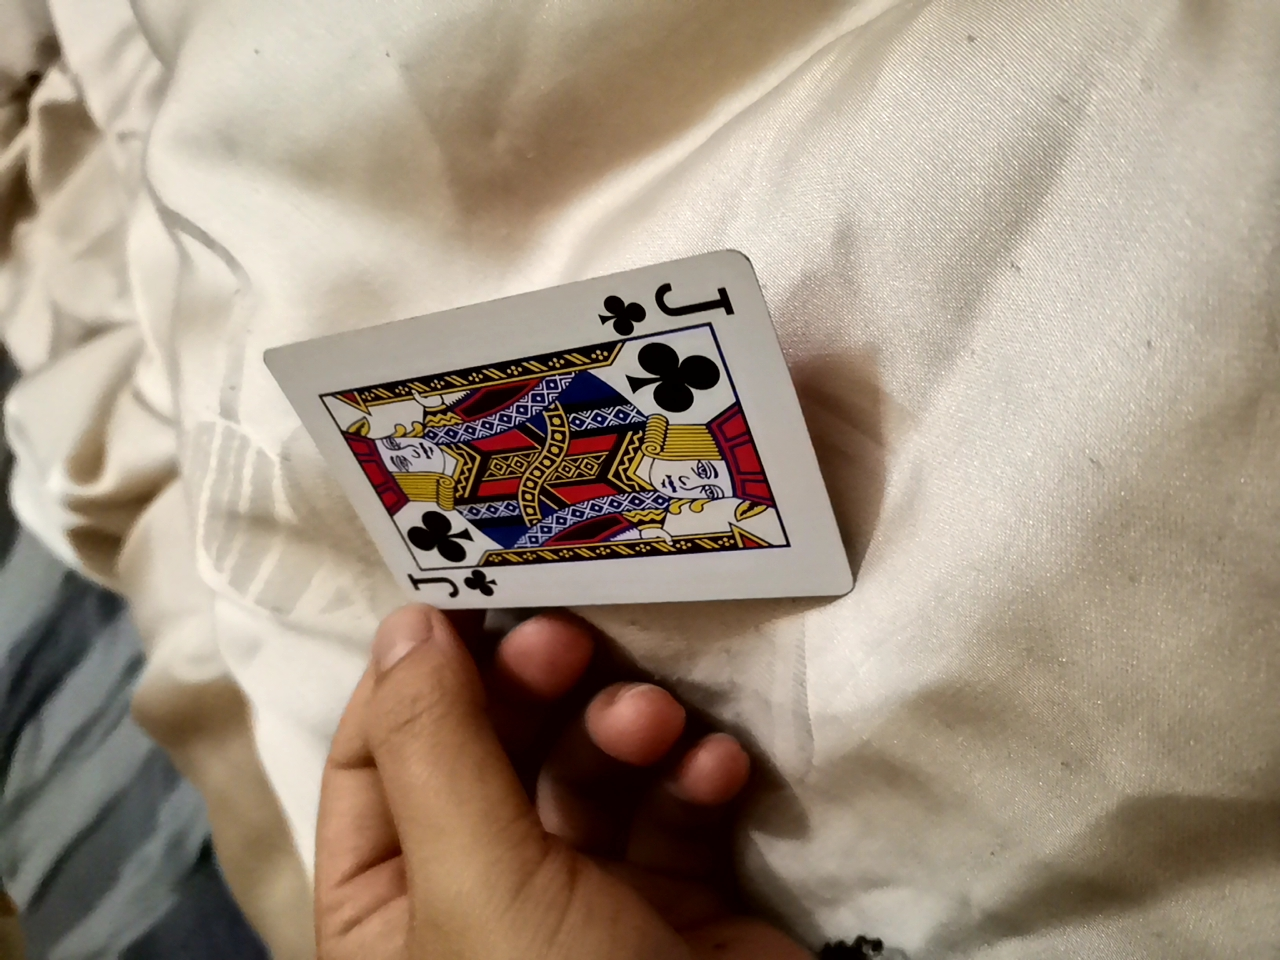mh j: (269, 260, 811, 606)
